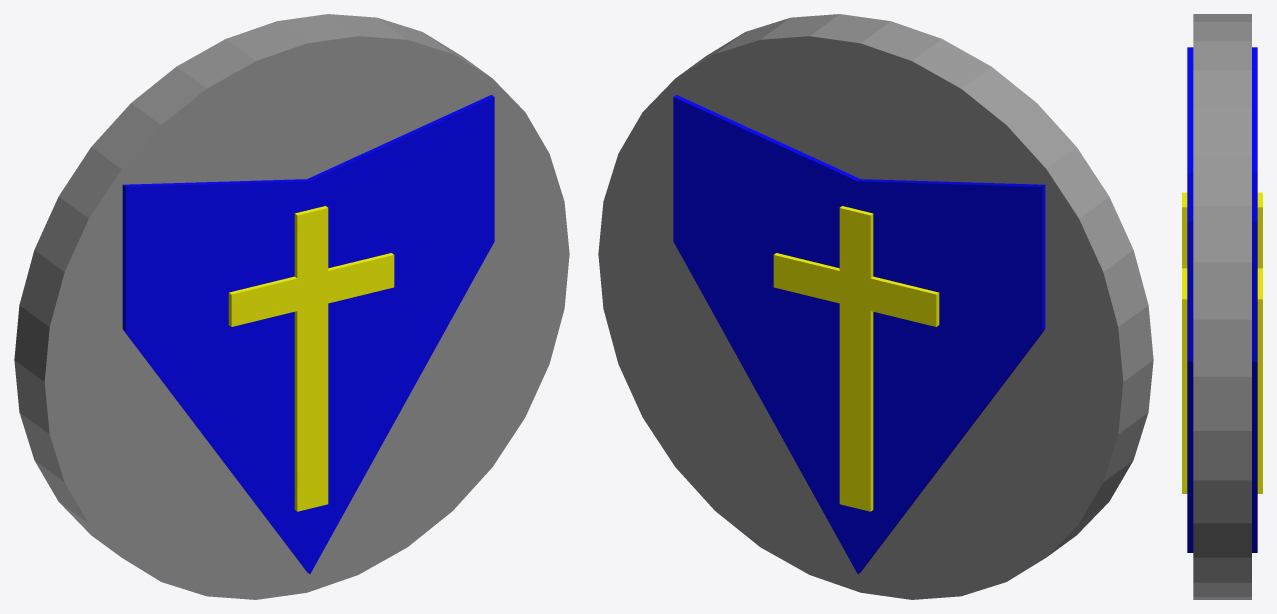
File: NoStanCoin.fbx
3 renders of one model, left to right at view 1: azimuth 30°, elevation 25°; view 2: azimuth 150°, elevation 25°; view 3: azimuth 270°, elevation 25°, orthographic. The views are drawn at different scales.
Parts seen in each view (by area): view 1: 円; view 2: 円; view 3: 円.
Boxes of the visible parts, x1,y1,x2,y2 form: 円: (14, 14, 569, 599); 円: (598, 14, 1153, 599); 円: (1182, 14, 1262, 599).
Bounding box in the file's own units: 200 × 200 × 27.59.
